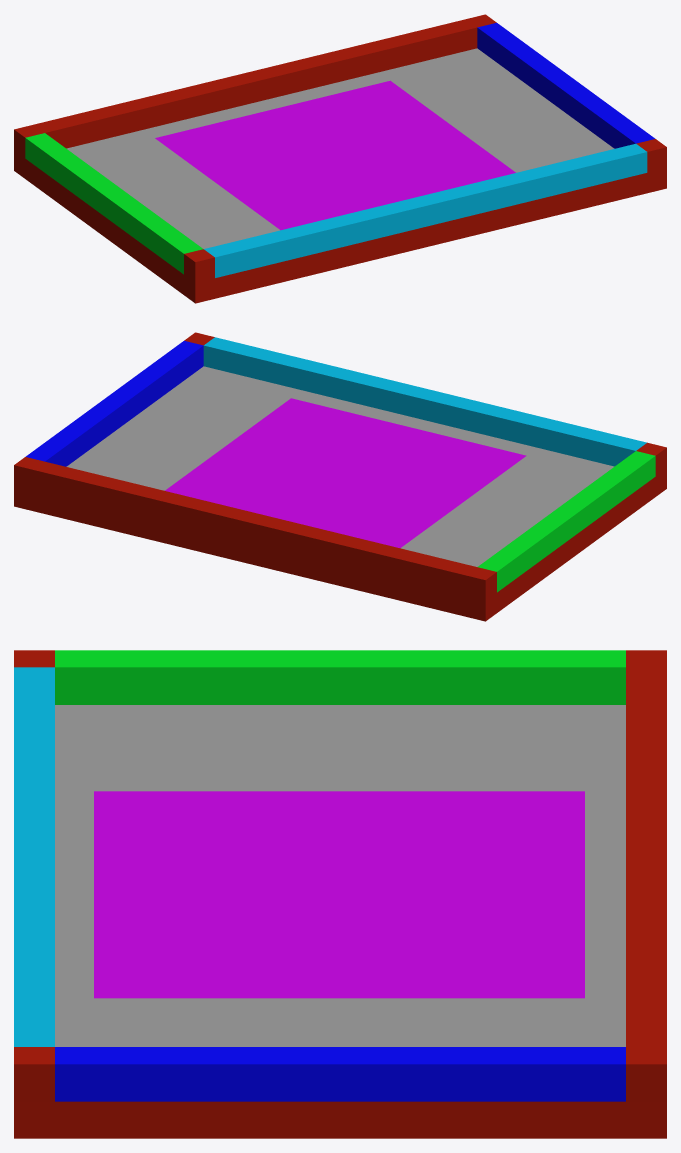
Rendered from test_building2_roof.glb.
3 renders of one model, top to bottom at view 1: azimuth 30°, elevation 25°; view 2: azimuth 150°, elevation 25°; view 3: azimuth 270°, elevation 25°, orthographic. The views are drawn at different scales.
Visible parts, largest first — view 1: mesh; view 2: mesh; view 3: mesh.
Part boxes in pixels (left/top/right/bottom): mesh: left=14, top=14, right=666, bottom=303; mesh: left=14, top=332, right=666, bottom=621; mesh: left=14, top=650, right=666, bottom=1138.
Bounding box in the file's own units: 12.01 × 1.01 × 8.
